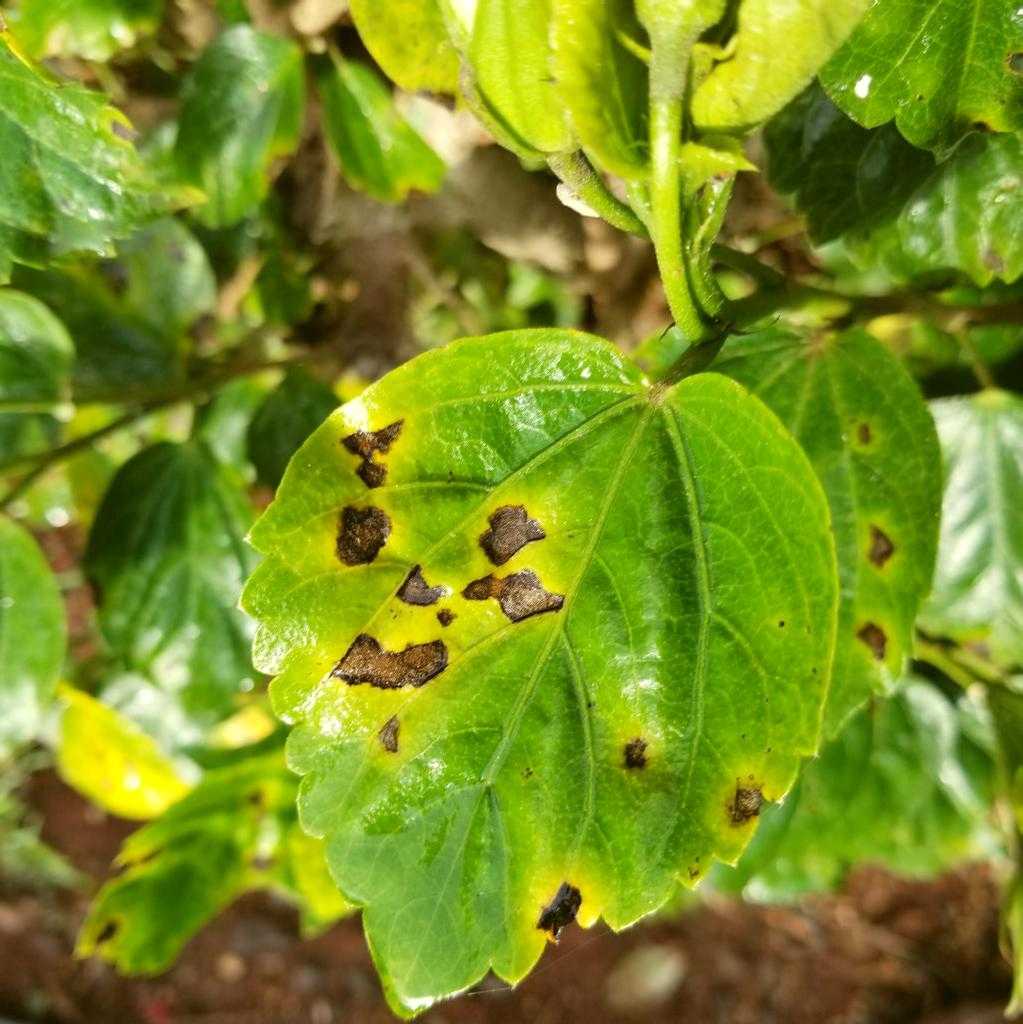Tomato leaf bacterial spot: (222, 326, 830, 994)
